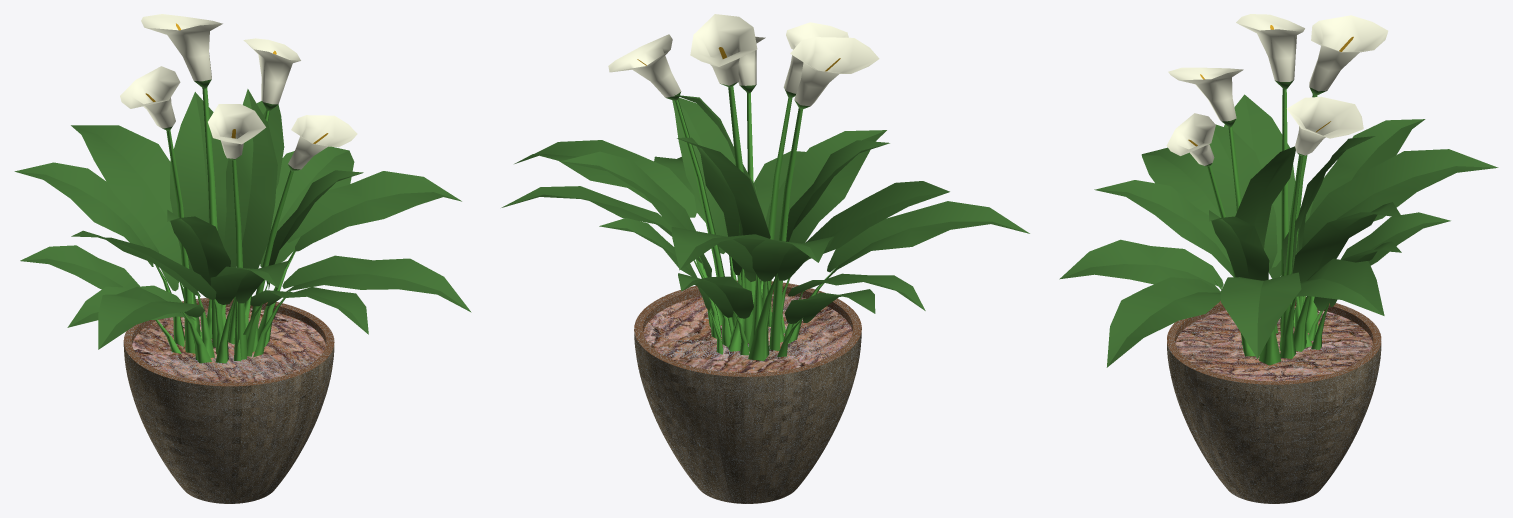
File: lily.dae
3 renders of one model, left to right at view 1: azimuth 30°, elevation 25°; view 2: azimuth 150°, elevation 25°; view 3: azimuth 270°, elevation 25°, orthographic. The views are drawn at different scales.
Visible parts, largest first — view 1: calla_lily-leaf (×16), Component_18 (×3), calla_lily-flower (×5), calla_lily-flower_stem (×4); view 2: calla_lily-leaf (×17), Component_18 (×3), calla_lily-flower (×5), calla_lily-flower_stem (×4), calla_lily-leaf_stem; view 3: calla_lily-leaf (×16), Component_18 (×3), calla_lily-flower (×5), calla_lily-flower_stem (×2), calla_lily-leaf_stem (×2).
Boxes of the visible parts, <box> form: calla_lily-leaf (×16): <box>14,89,471,349</box>; Component_18 (×3): <box>123,298,334,503</box>; calla_lily-flower (×5): <box>120,14,357,169</box>; calla_lily-flower_stem (×4): <box>166,87,293,359</box>; calla_lily-leaf (×17): <box>501,97,1029,323</box>; Component_18 (×3): <box>634,280,861,503</box>; calla_lily-flower (×5): <box>608,14,879,106</box>; calla_lily-flower_stem (×4): <box>674,86,802,350</box>; calla_lily-leaf_stem: <box>748,273,777,360</box>; calla_lily-leaf (×16): <box>1059,94,1498,367</box>; Component_18 (×3): <box>1167,297,1381,503</box>; calla_lily-flower (×5): <box>1166,14,1388,165</box>; calla_lily-flower_stem (×2): <box>1279,88,1302,350</box>; calla_lily-leaf_stem (×2): <box>1280,296,1310,358</box>.
Size of the model in its own units: 33.58 by 29.92 by 34.02.
9 materials, 3 textured.
